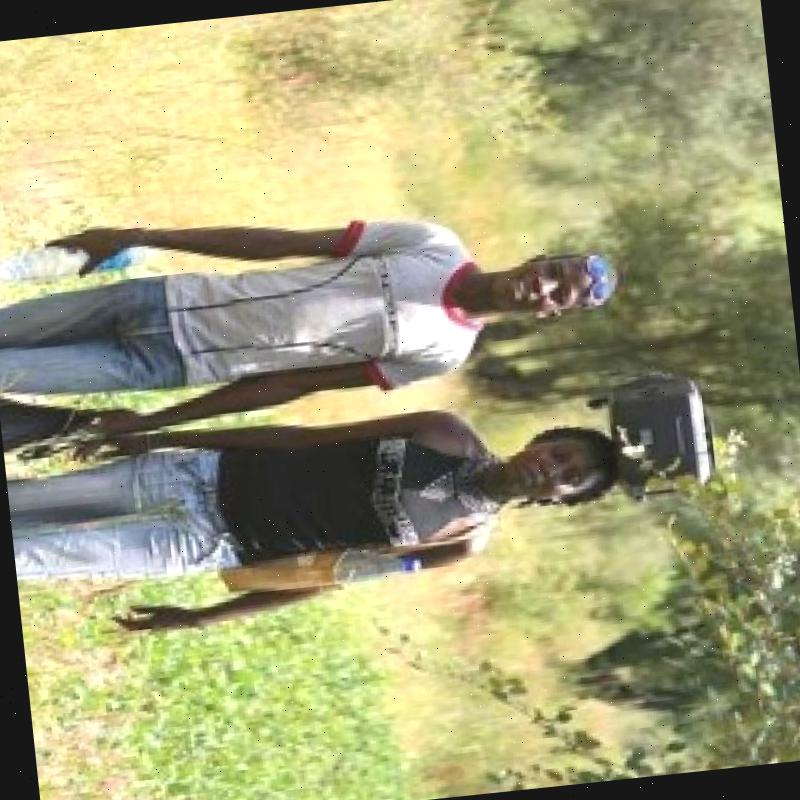botella: (0, 232, 160, 285), (332, 542, 423, 582)
